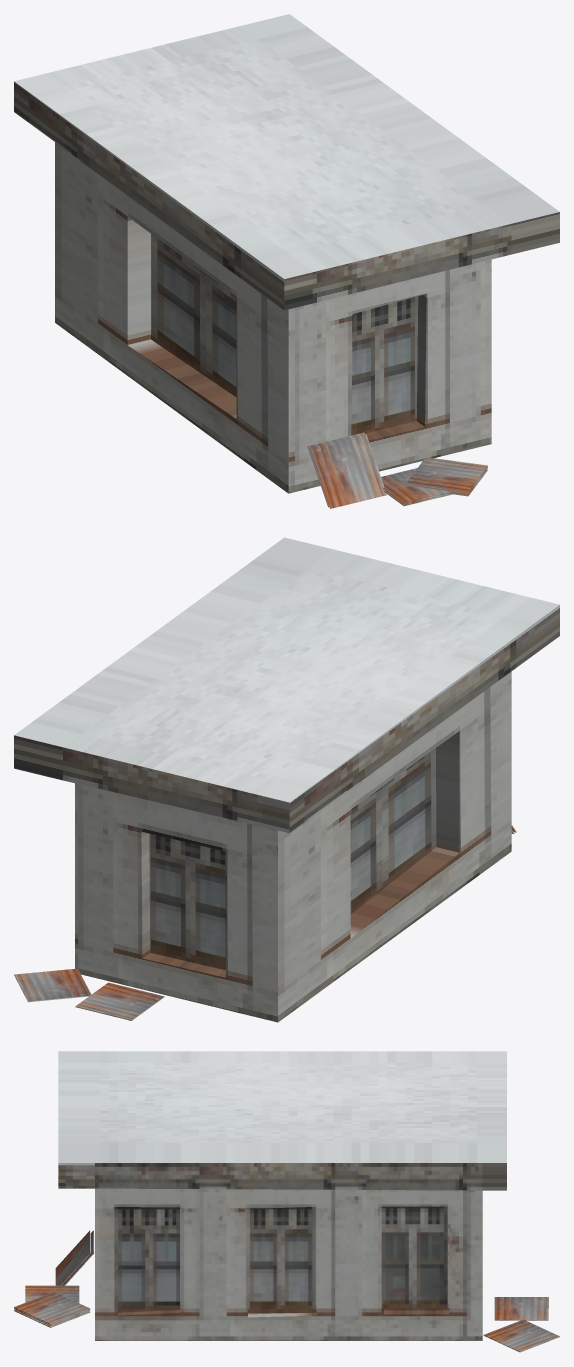
Rendered from House3.fbx.
3 views of the same model, one above another, from view 1: azimuth 30°, elevation 25°; view 2: azimuth 150°, elevation 25°; view 3: azimuth 270°, elevation 25° (orthographic). The views are drawn at different scales.
Visible parts, largest first — view 1: Cube; view 2: Cube; view 3: Cube.
Boxes of the visible parts, x1=… form: Cube: x1=14, y1=14, x2=559, y2=508; Cube: x1=14, y1=537, x2=559, y2=1022; Cube: x1=14, y1=1051, x2=559, y2=1352.
Bounding box in the file's own units: 975 × 811 × 2017.
2 materials, 2 textured.
